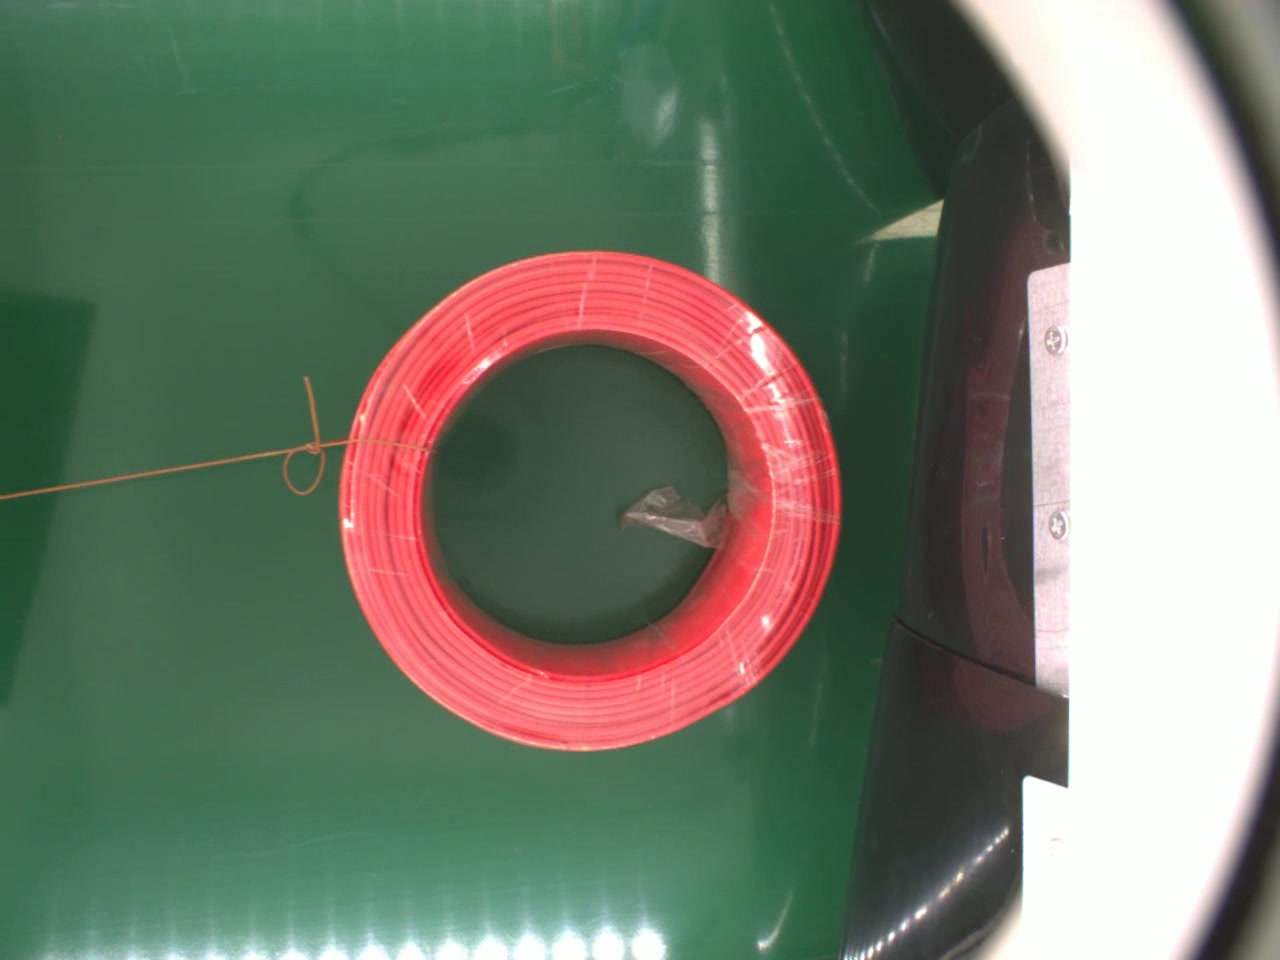red: (333, 244, 846, 751)
